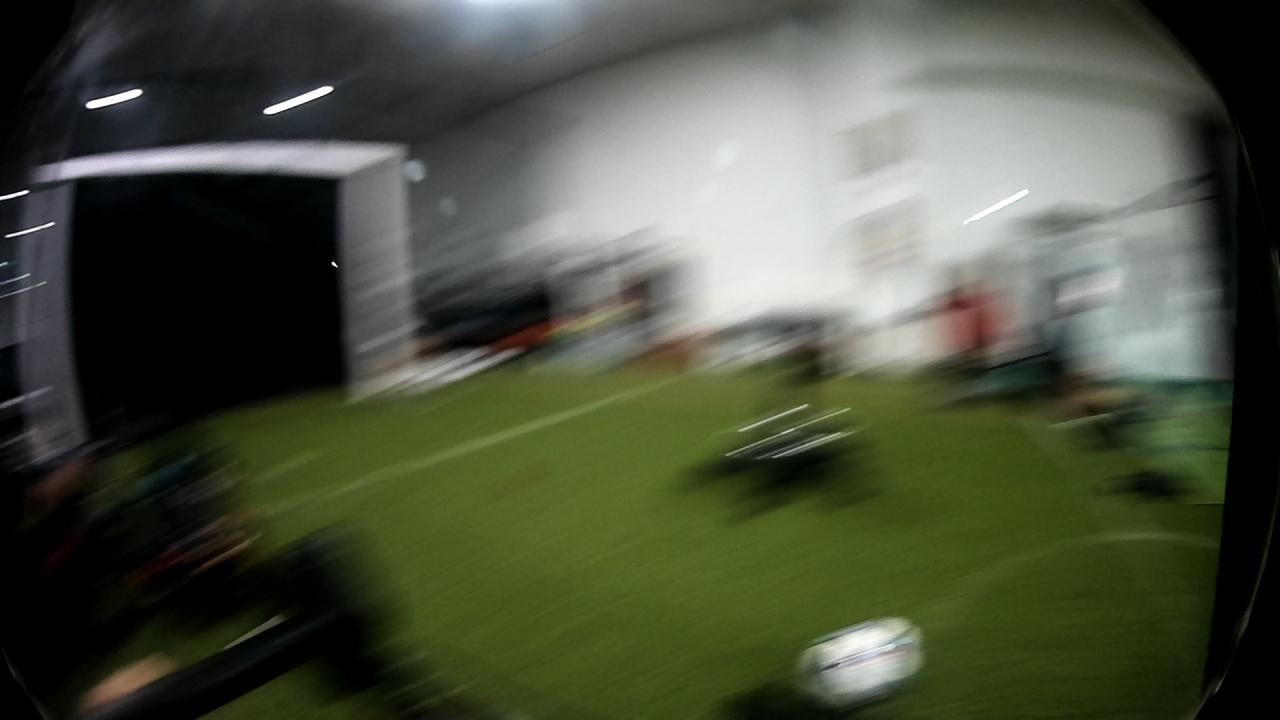ball: (790, 603, 926, 703)
